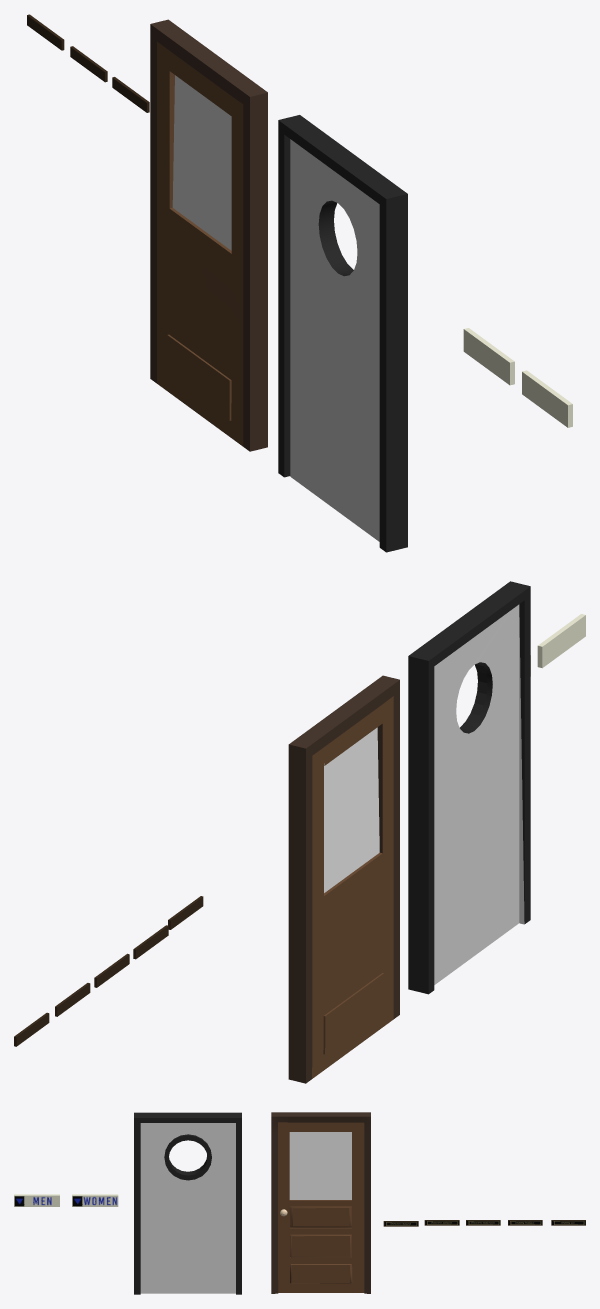
File: PD_doors_signs_TL.fbx
3 renders of one model, top to bottom at view 1: azimuth 30°, elevation 25°; view 2: azimuth 150°, elevation 25°; view 3: azimuth 270°, elevation 25°, orthographic. The views are drawn at different scales.
Parts seen in each view (by area): view 1: pCube15, lowpoly3, pCube16, pCube17; view 2: pCube15, lowpoly3, pCube17; view 3: pCube15, lowpoly3, pCube16, pCube17.
Part boxes in pixels (x1=…): pCube15: x1=278, y1=115, x2=407, y2=552; lowpoly3: x1=150, y1=19, x2=267, y2=451; pCube16: x1=463, y1=328, x2=514, y2=385; pCube17: x1=522, y1=370, x2=572, y2=427; pCube15: x1=408, y1=581, x2=530, y2=994; lowpoly3: x1=288, y1=675, x2=399, y2=1083; pCube17: x1=537, y1=614, x2=585, y2=668; pCube15: x1=134, y1=1112, x2=241, y2=1294; lowpoly3: x1=271, y1=1112, x2=370, y2=1293; pCube16: x1=72, y1=1194, x2=118, y2=1206; pCube17: x1=14, y1=1194, x2=59, y2=1206.
Size of the model in its own units: 1.73 by 5.85 by 17.11.
Materials: 13 (7 with a texture image).
